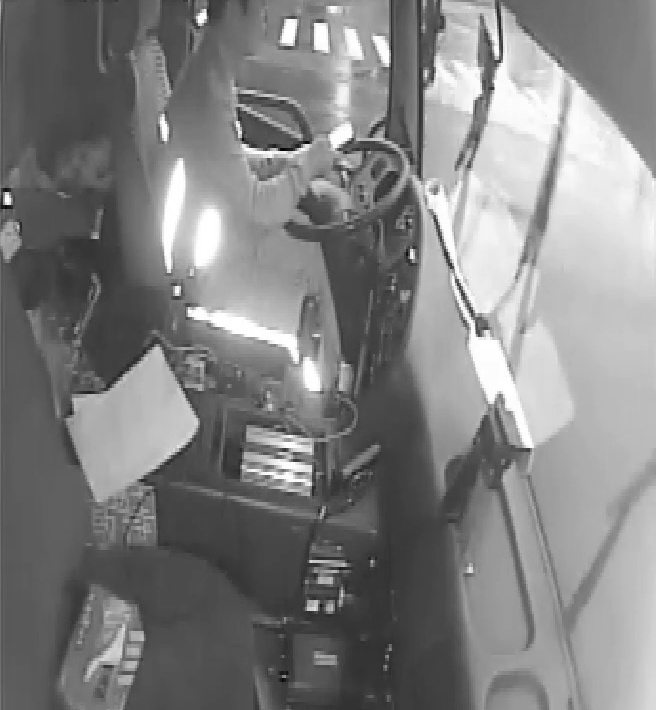cellphone: (315, 119, 354, 159)
